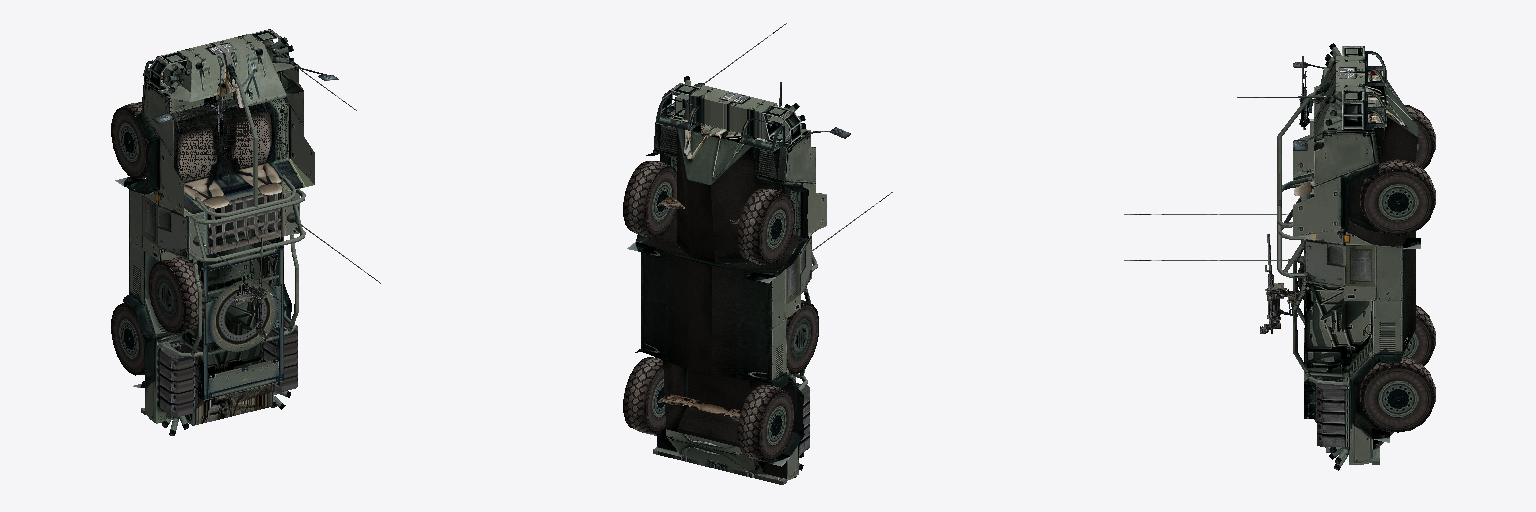
3 views of the same model, side by side, from view 1: azimuth 30°, elevation 25°; view 2: azimuth 150°, elevation 25°; view 3: azimuth 270°, elevation 25° (orthographic).
Size of the model in its own units: 2.79 by 5.51 by 4.15.
Materials: 5 (2 with a texture image).